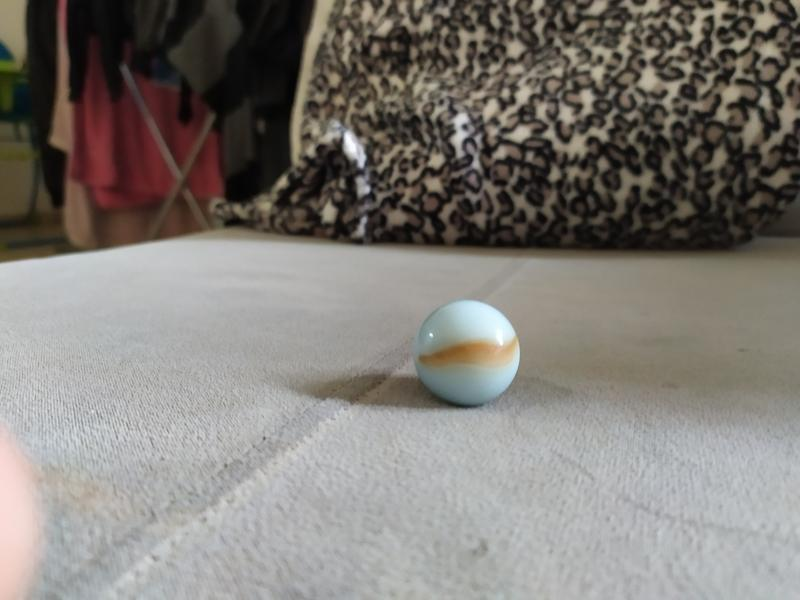Warning: (410, 297, 524, 411)
